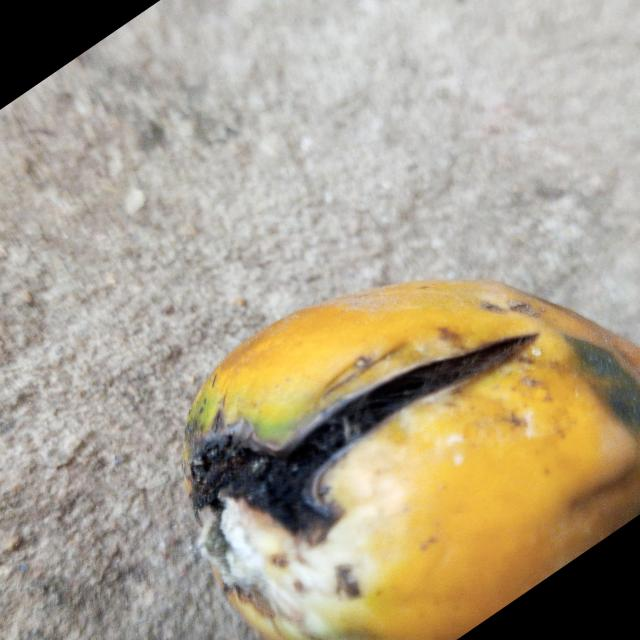damaged: (184, 281, 640, 640)
